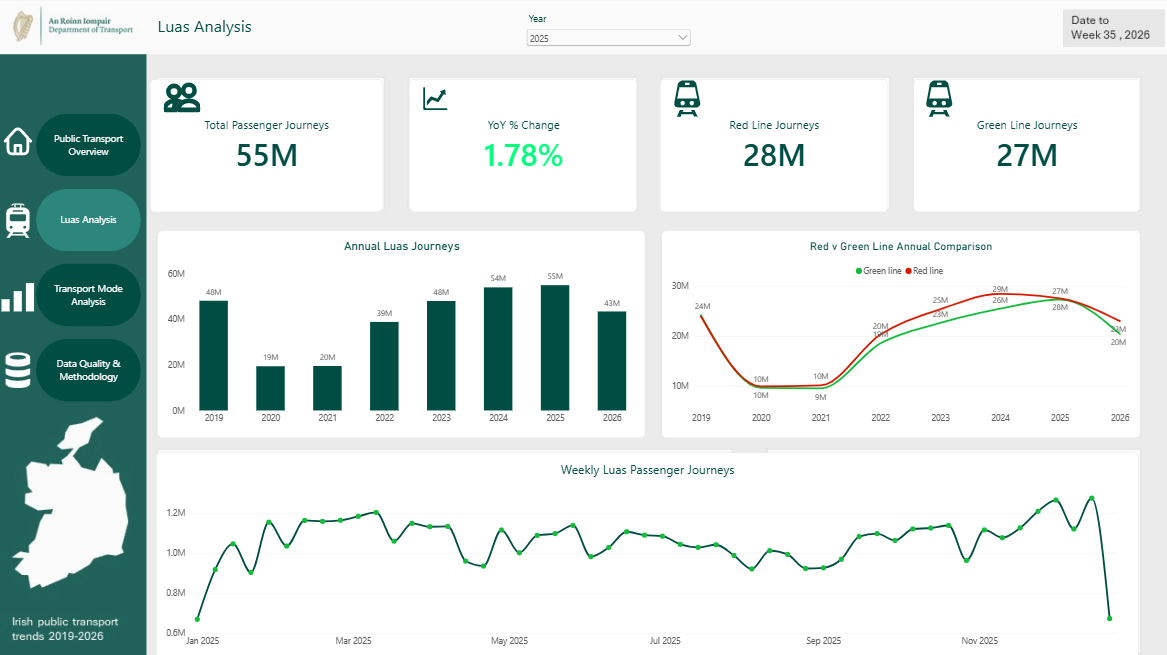

This screenshot's page, from the dashboard's own definition file:
{"tool":"powerbi","page":{"name":"Luas Analysis","canvas":[1920,1080],"ordinal":1},"visuals":[{"type":"textbox","box":[256.9,23.2,336.2,50.6],"z":0},{"type":"columnChart","title":"Annual Luas Journeys","fields":{"Category":["Public_Transport_Combined.Year"],"Y":["Sum(Public_Transport_Combined.Passenger Journeys)"]},"box":[256.9,377.2,799.4,340.3],"z":1000},{"type":"lineChart","title":"Red v Green Line Annual Comparison","fields":{"Category":["Public_Transport_Combined.Year"],"Series":["Public_Transport_Combined.Mode of Transport"],"Y":["Sum(Public_Transport_Combined.Passenger Journeys)"]},"box":[1083.7,377.2,784.4,340.3],"z":2000},{"type":"lineChart","title":"Weekly Luas Passenger Journeys","fields":{"Category":["Public_Transport_Combined.Week Start Date"],"Y":["Sum(Public_Transport_Combined.Passenger Journeys)"]},"box":[256.8,738.8,1610.2,341.3],"z":3000},{"type":"slicer","title":"Year","fields":{"Values":["Public_Transport_Combined.Year"]},"box":[857.3,16,278.7,96],"z":4000},{"type":"pageNavigator","box":[58.5,183.5,172.9,474.8],"z":6000},{"type":"image","box":[0,202.2,58.5,55.9],"z":7000},{"type":"image","box":[0,332.5,58.5,55.9],"z":8000},{"type":"image","box":[0,575.9,58.5,59.9],"z":9000},{"type":"image","box":[1.3,454.9,53.2,61.2],"z":10000},{"type":"cardVisual","fields":{"Data":["Sum(Public_Transport_Combined.Passenger Journeys)"]},"box":[246.3,127.6,381.3,218.1],"z":11000},{"type":"cardVisual","fields":{"Data":["Sum(Public_Transport_Combined.Passenger Journeys)"]},"box":[1082.7,127.7,373.7,218.1],"z":12000},{"type":"cardVisual","fields":{"Data":["Sum(Public_Transport_Combined.Passenger Journeys)"]},"box":[1496.3,127.7,371.1,218.1],"z":13000},{"type":"cardVisual","fields":{"Data":["Public_Transport_Combined.YoY % KPI"]},"box":[671,128.5,373.1,218.6],"z":14000},{"type":"image","box":[256.7,127.7,85.1,59.9],"z":15000},{"type":"image","box":[1084.6,129.1,84.6,59.4],"z":16000},{"type":"image","box":[670.7,129.1,84.6,59.4],"z":18000},{"type":"image","box":[1497.6,129.2,84.5,59.6],"z":19001}]}

Visuals, with their boxes in screenshot pixels (x1, y1, x2, y2), scaled from the page's 1920x1080 canvas onto the 1167x655 screenshot:
textbox: (156,14,360,45)
"Annual Luas Journeys" columnChart: (156,229,642,435)
"Red v Green Line Annual Comparison" lineChart: (659,229,1135,435)
"Weekly Luas Passenger Journeys" lineChart: (156,448,1135,654)
"Year" slicer: (521,10,690,68)
pageNavigator: (36,111,141,399)
image: (0,123,36,157)
image: (0,202,36,236)
image: (0,349,36,386)
image: (1,276,33,313)
cardVisual - Sum(Public_Transport_Combined.Passenger Journeys): (150,77,381,210)
cardVisual - Sum(Public_Transport_Combined.Passenger Journeys): (658,77,885,210)
cardVisual - Sum(Public_Transport_Combined.Passenger Journeys): (909,77,1135,210)
cardVisual - Public_Transport_Combined.YoY % KPI: (408,78,635,211)
image: (156,77,208,114)
image: (659,78,711,114)
image: (408,78,459,114)
image: (910,78,962,115)
